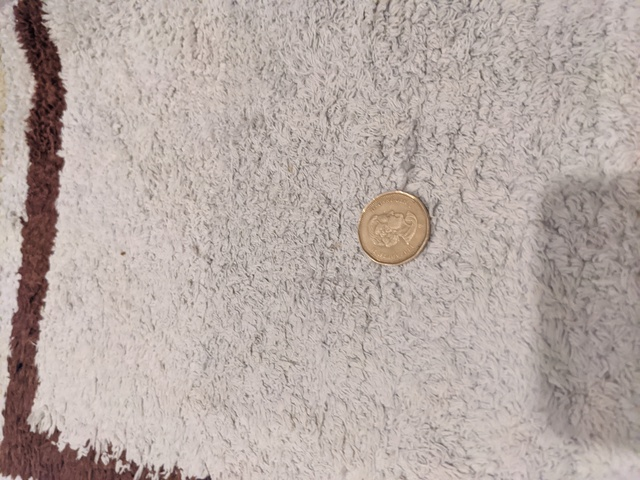loonie: (351, 186, 442, 267)
